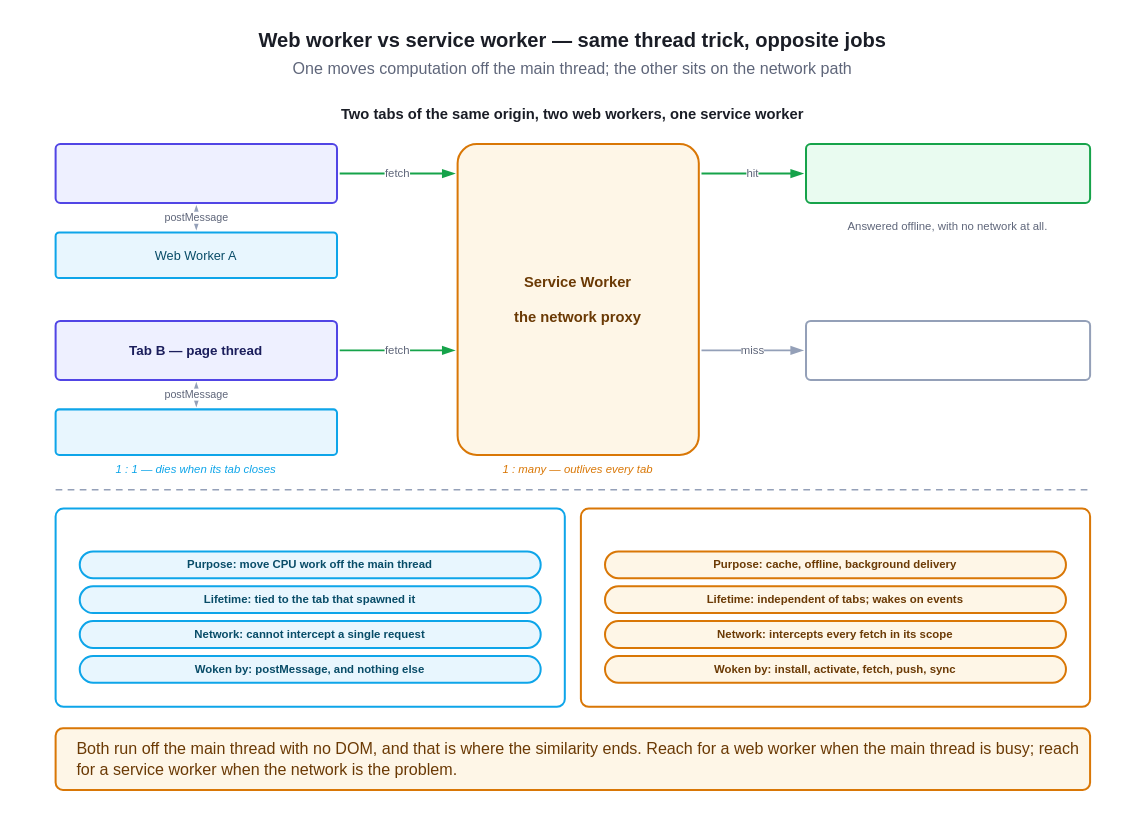
This 1144x813 diagram has some shape labels left out. Each missing label, with the box of its shape:
Cache Storage: (804, 142, 1090, 203)
Network: (804, 319, 1090, 380)
Service worker — a network worker: (579, 507, 1090, 707)
Tab A — page thread: (54, 142, 337, 203)
Web Worker B: (54, 408, 337, 455)
Web worker — a compute worker: (54, 507, 565, 707)
